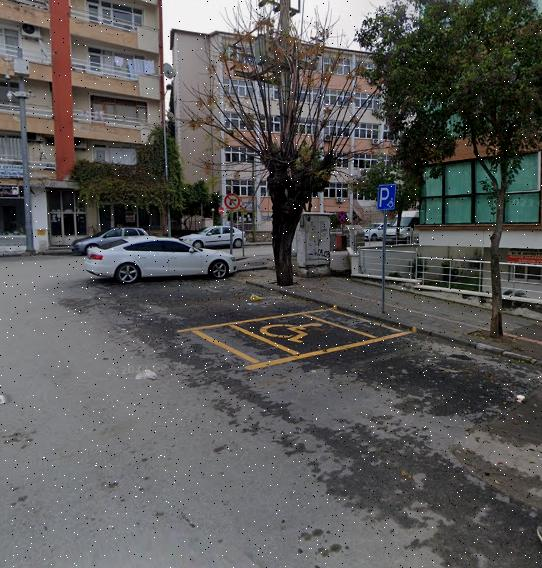disabledpark: (379, 186, 396, 211)
